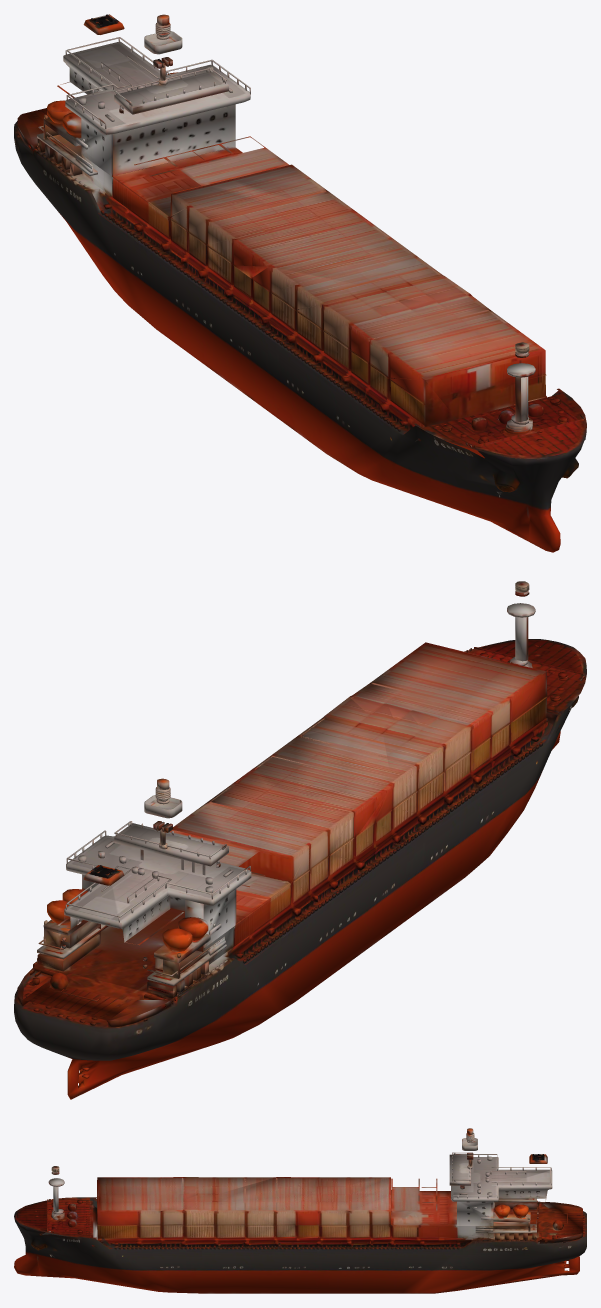
Rendered from Vehicles__a_cargo_ship_c5c49473_v4.cluster.glb.
The picture shows the model from 3 angles, top to bottom: view 1: azimuth 30°, elevation 25°; view 2: azimuth 150°, elevation 25°; view 3: azimuth 270°, elevation 25°; orthographic projection. The views are drawn at different scales.
Visible parts, largest first — view 1: material; view 2: material; view 3: material.
Part boxes in pixels (x1,y1,x2,y2): material: [14, 14, 586, 552]; material: [14, 581, 586, 1099]; material: [14, 1128, 586, 1293].
Bounding box in the file's own units: 0.3269 × 0.5312 × 1.9.
Materials: 1 (1 with a texture image).
